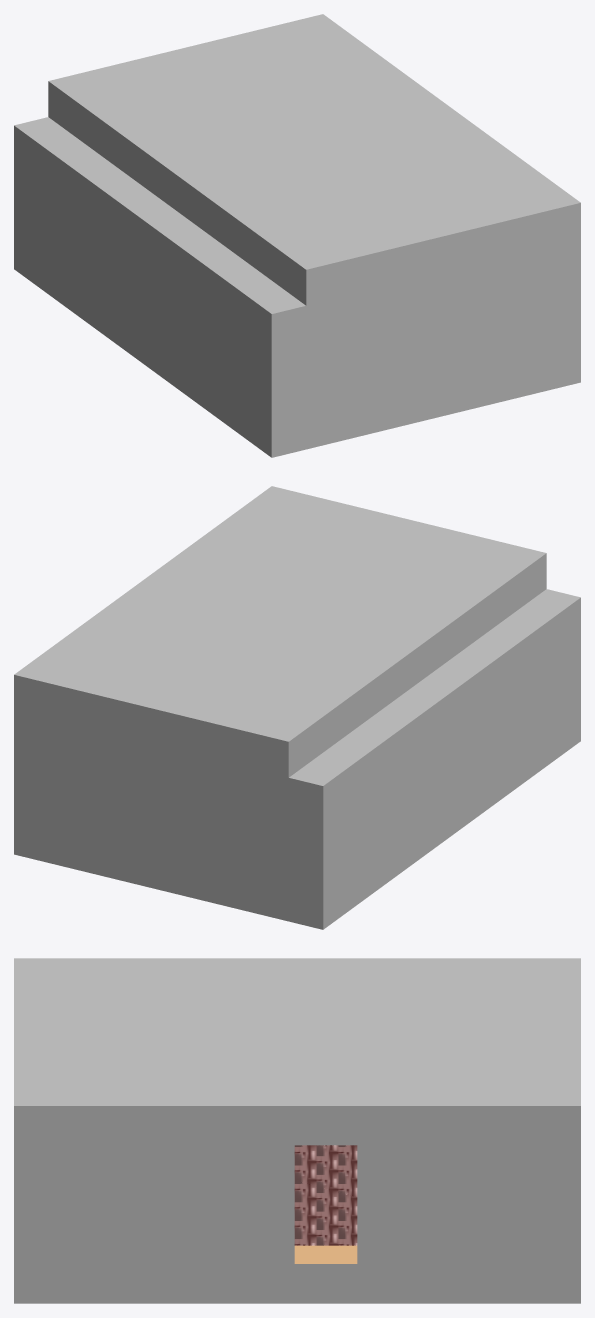
The model's file is BuildingExt.fbx.
3 renders of one model, top to bottom at view 1: azimuth 30°, elevation 25°; view 2: azimuth 150°, elevation 25°; view 3: azimuth 270°, elevation 25°, orthographic. The views are drawn at different scales.
Parts seen in each view (by area): view 1: BuildingExt; view 2: BuildingExt; view 3: BuildingExt.
Part boxes in pixels (<box>): BuildingExt: <box>14,14,580,457</box>; BuildingExt: <box>14,486,580,929</box>; BuildingExt: <box>14,958,580,1303</box>.
Size of the model in its own units: 900 by 500 by 1300.
